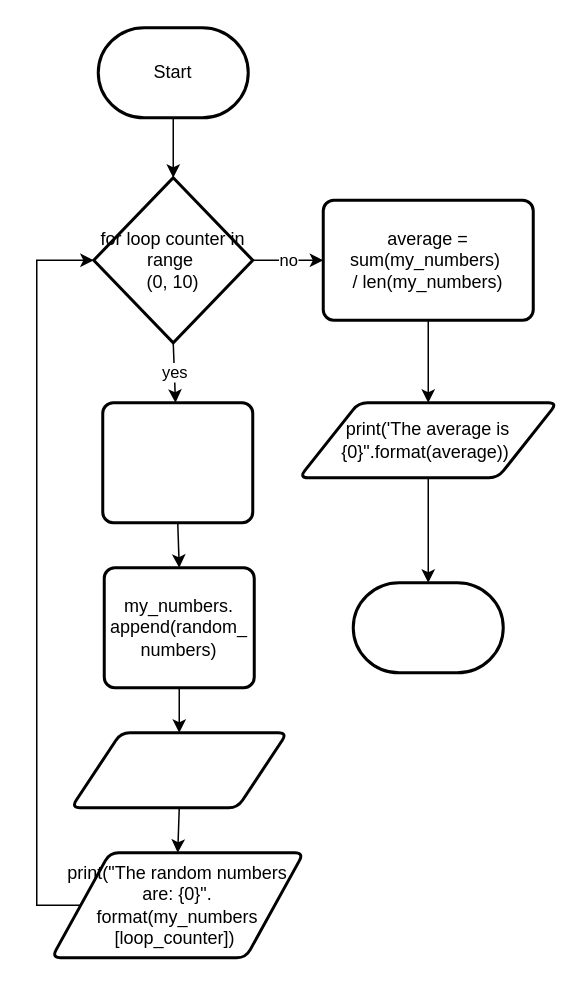
The diagram is 585 pixels wide and 984 high, and some of its shapes have lost their labels. The centre of each missing label's shape, as x and y in pixels:
print("here are the ten random numbers'): (178,769)
random number = random.randint (0, 100): (177,462)
Stop: (427,627)
